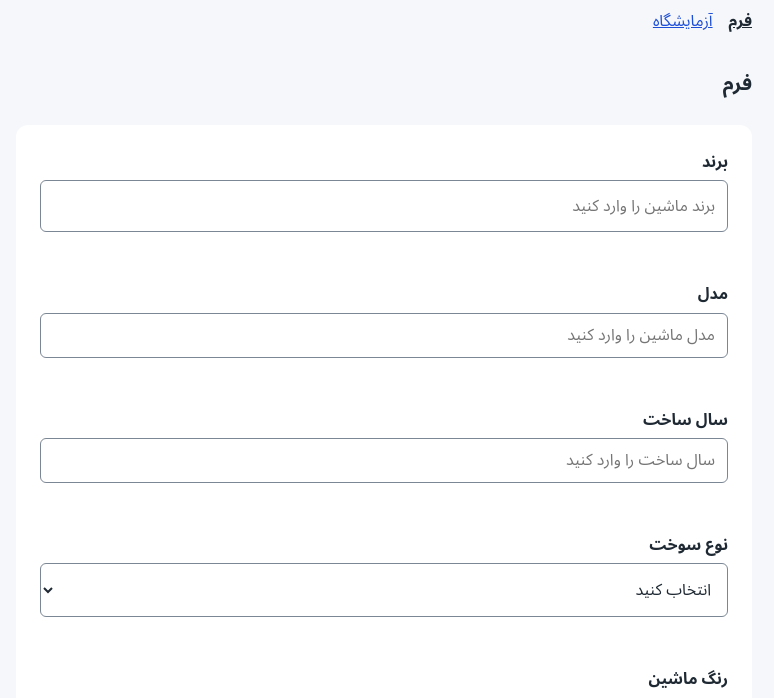
Test case: App › views › links the two views, marks the current one, and switches when a link is followed
Expected: the field labelled "برند" is shown, x1=40 y1=180 x2=728 y2=232
Click the link "آزمایشگاه": (683, 22) x1=653 y1=0 x2=713 y2=43
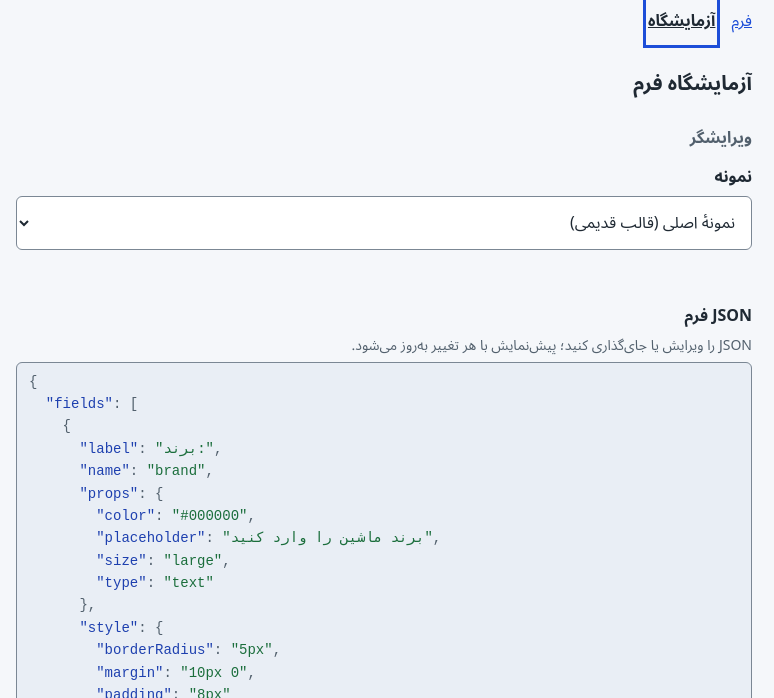
Expected: the heading "آزمایشگاه فرم" is shown, x1=633 y1=63 x2=752 y2=105
Result: the link "آزمایشگاه" is marked as current at x1=648 y1=0 x2=716 y2=43
Result: the link "فرم" does not have attribute aria-current
Click the link "فرم": (742, 22) x1=731 y1=0 x2=752 y2=43
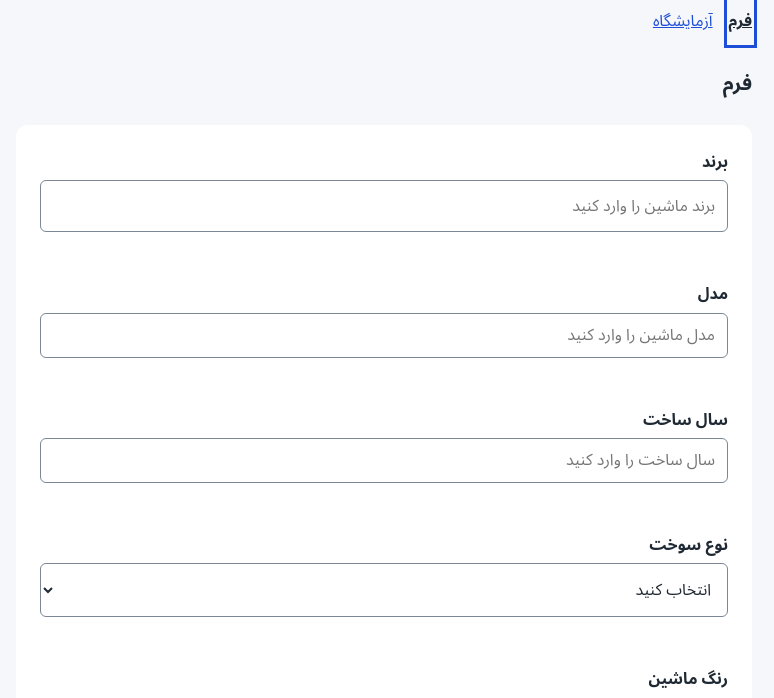
Result: the field labelled "برند" is shown at x1=40 y1=180 x2=728 y2=232
